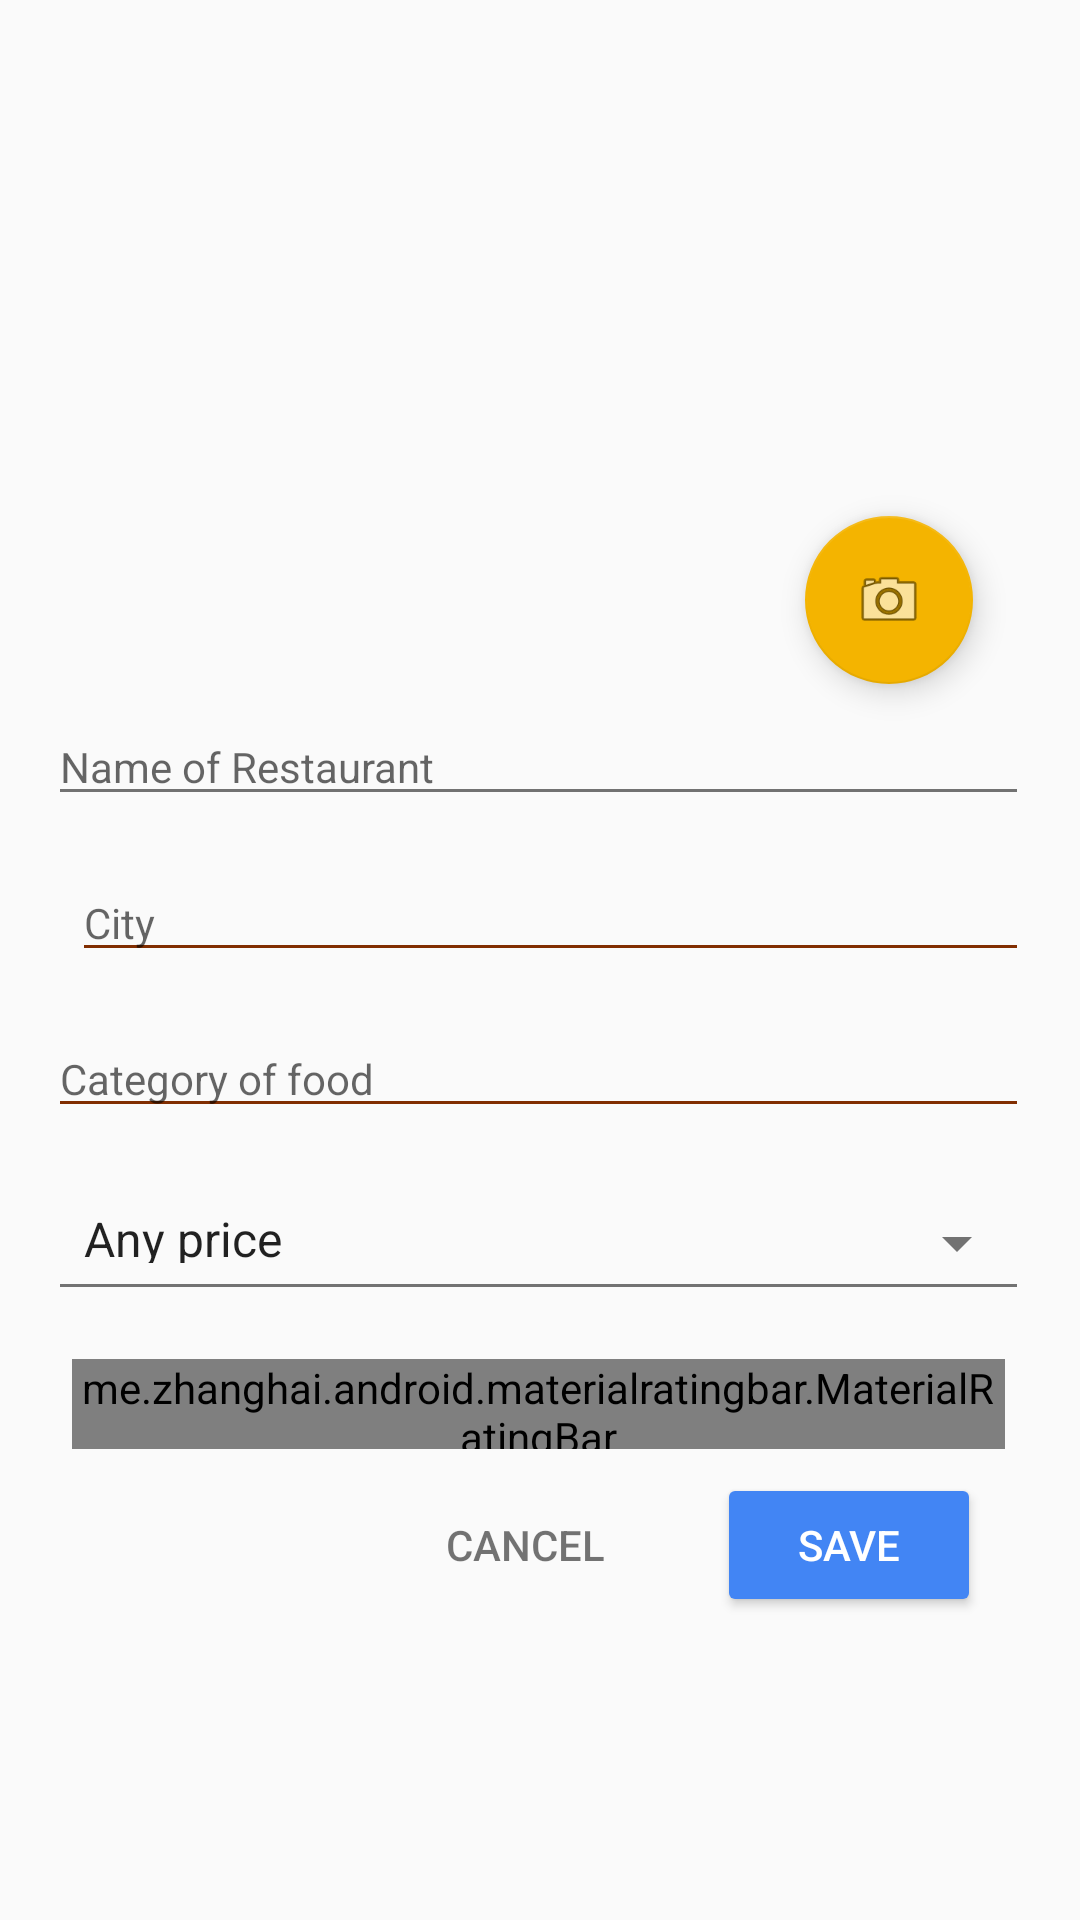

Where icons sit on this 1080 x 1920 app screen, as detection(x1, y1, x2, y2):
camera: detection(805, 516, 973, 684)
